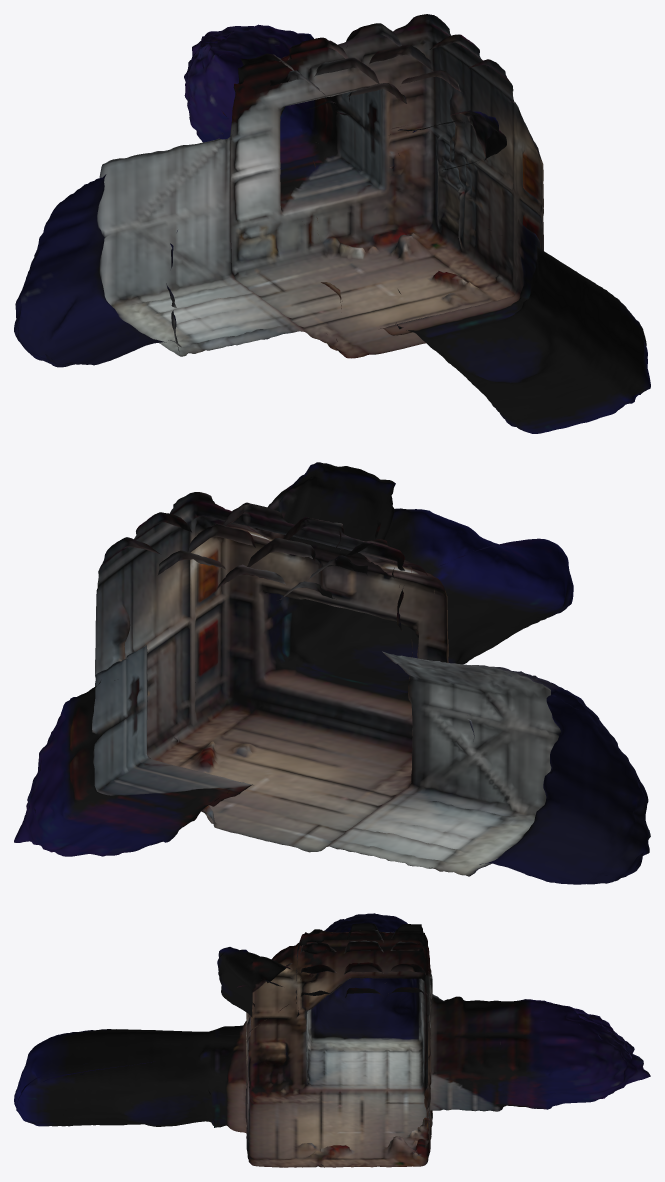
File: hangar-collider.glb
3 views of the same model, one above another, from view 1: azimuth 30°, elevation 25°; view 2: azimuth 150°, elevation 25°; view 3: azimuth 270°, elevation 25° (orthographic). The views are drawn at different scales.
Parts seen in each view (by area): view 1: world; view 2: world; view 3: world.
Boxes of the visible parts, <box> form: world: <box>14,14,650,433</box>; world: <box>14,462,650,884</box>; world: <box>14,913,650,1167</box>.
Bounding box in the file's own units: 4.18 × 1.99 × 6.54.
